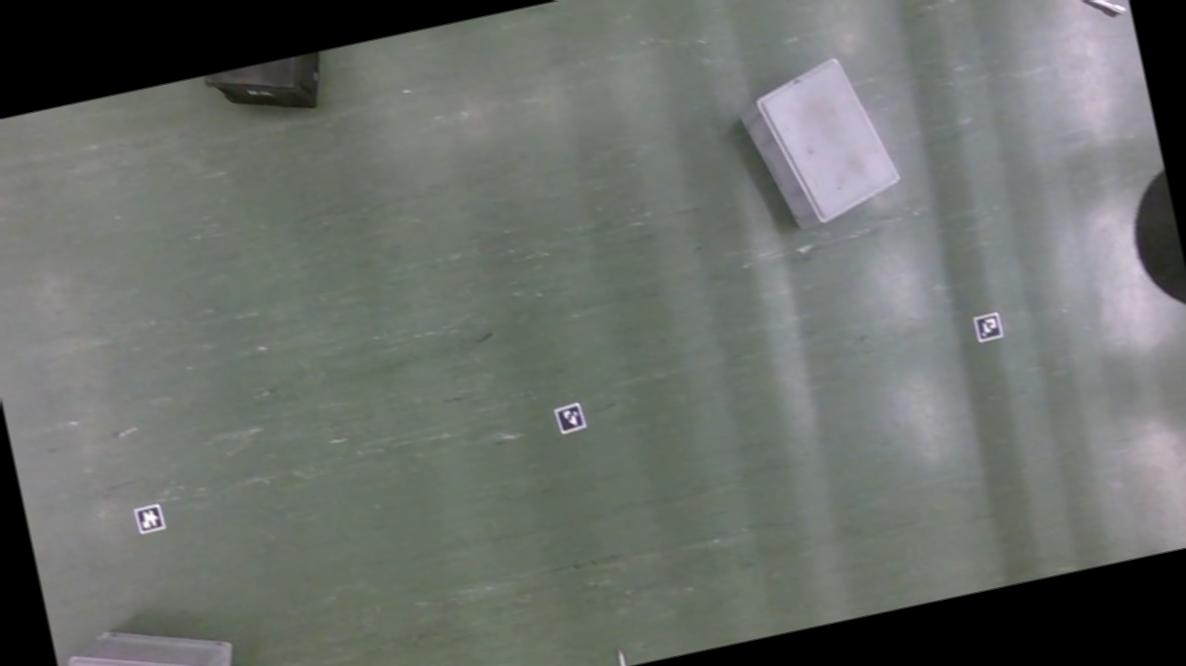probes: (1078, 0, 1128, 24), (614, 650, 626, 666)
rako: (731, 47, 909, 238), (200, 48, 340, 128), (54, 611, 256, 666)
